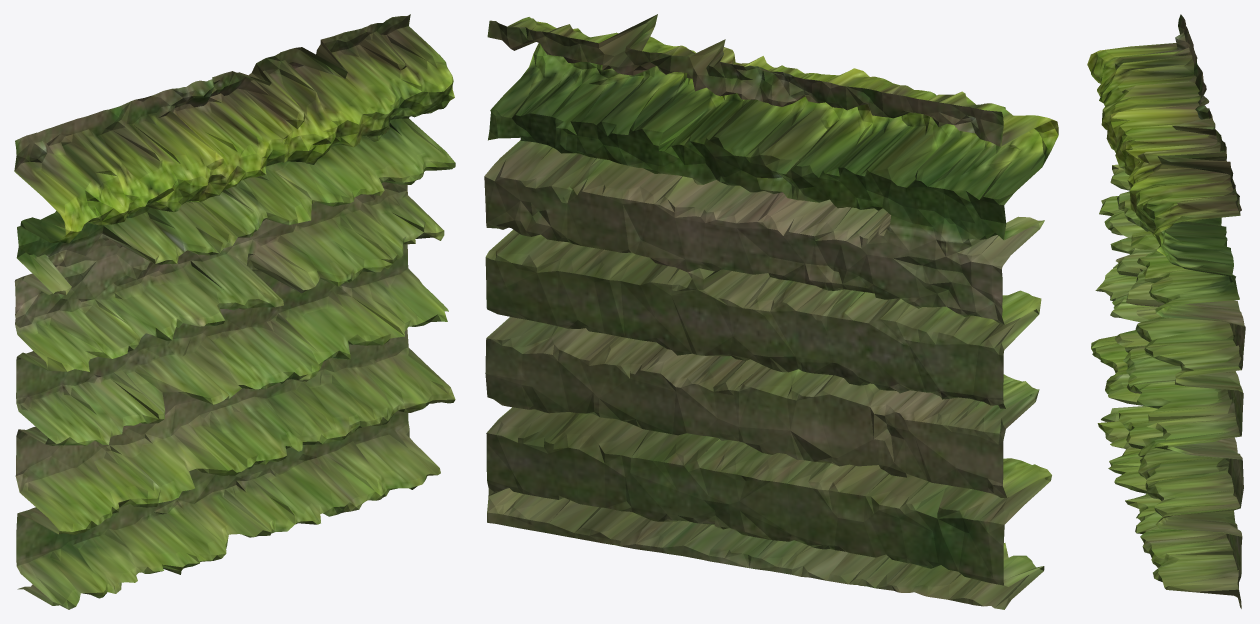
The model's file is map_40_60.obj.
The picture shows the model from 3 angles, left to right: view 1: azimuth 30°, elevation 25°; view 2: azimuth 150°, elevation 25°; view 3: azimuth 270°, elevation 25°; orthographic projection. The views are drawn at different scales.
Parts seen in each view (by area): view 1: grp1; view 2: grp1; view 3: grp1.
Part boxes in pixels (x1,y1,x2,y2): grp1: [14, 14, 455, 609]; grp1: [484, 14, 1058, 609]; grp1: [1087, 14, 1245, 608].
Size of the model in its own units: 10 by 10 by 3.54.
Materials: 1 (1 with a texture image).
